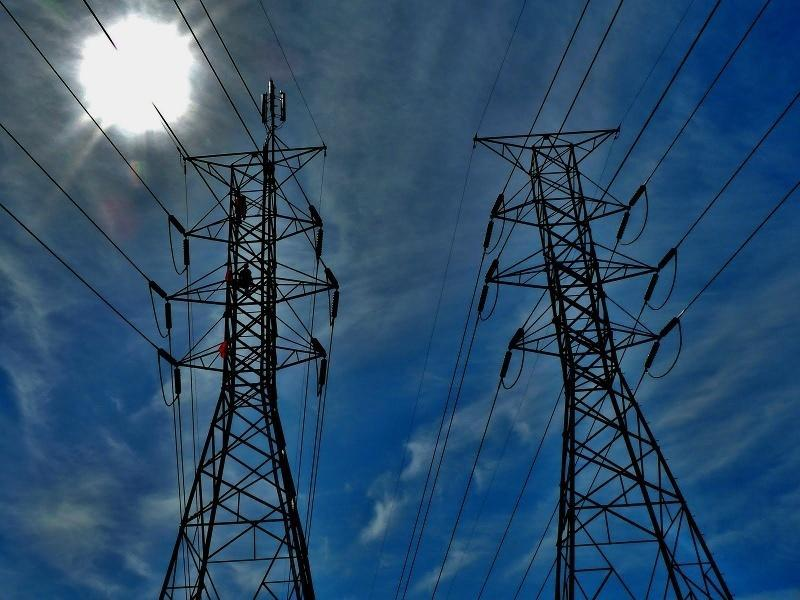power_tower: (468, 124, 736, 600), (142, 140, 342, 600)
